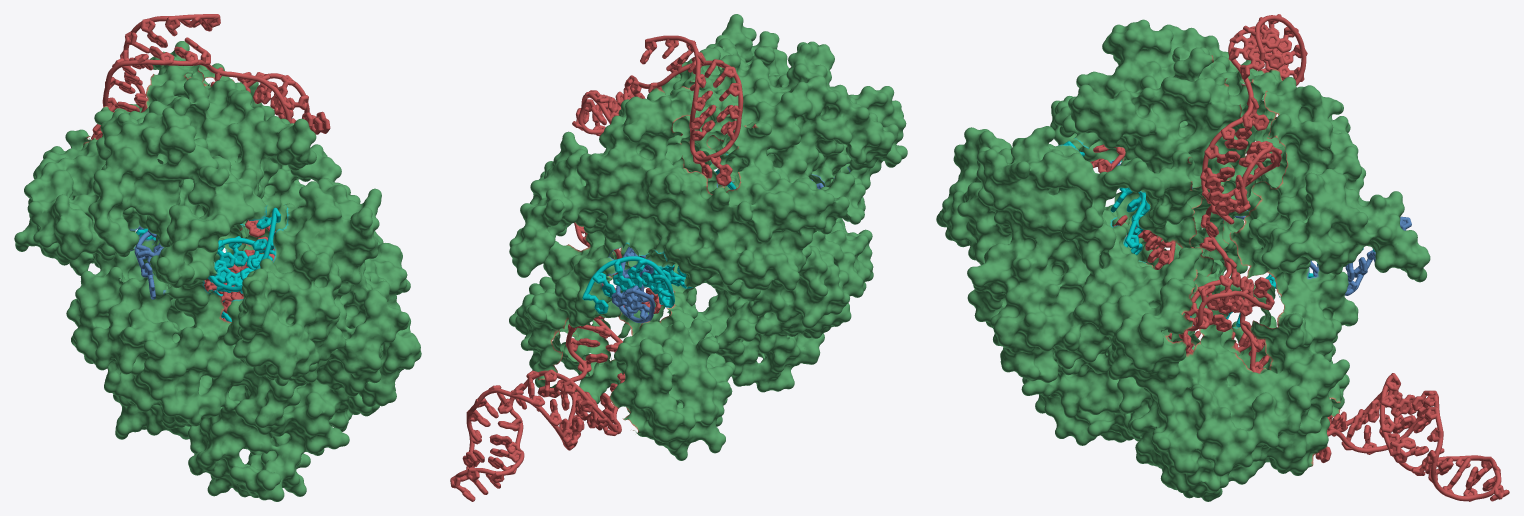
Rendered from crispr_hero_opt.glb.
3 renders of one model, left to right at view 1: azimuth 30°, elevation 25°; view 2: azimuth 150°, elevation 25°; view 3: azimuth 270°, elevation 25°, orthographic. The views are drawn at different scales.
Parts seen in each view (by area): view 1: node-geom0; view 2: node-geom0; view 3: node-geom0.
Boxes of the visible parts, <box> form: node-geom0: <box>14,14,421,501</box>; node-geom0: <box>450,14,907,501</box>; node-geom0: <box>936,14,1509,501</box>.
Size of the model in its own units: 94.86 by 108 by 132.
